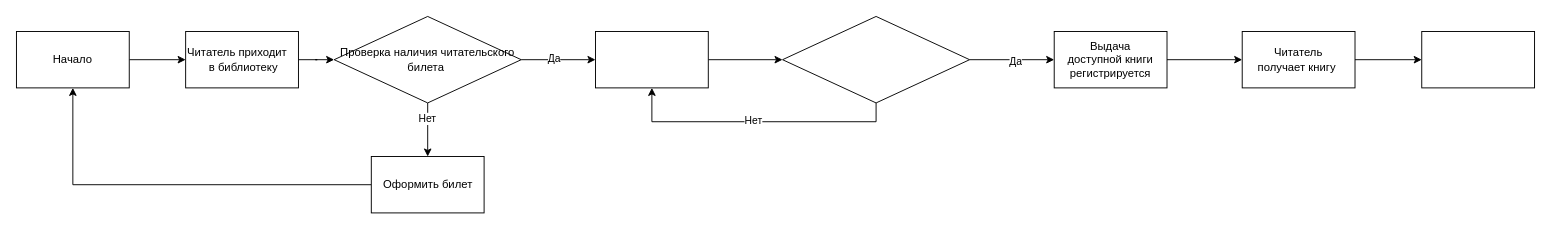
Image size: 1551x229. Some labels were removed from this diagram. Each missing label, with the box of its shape:
Конец: (1421, 31, 1535, 88)
Проверка доступности книги: (782, 16, 970, 103)
Читатель выбирает книгу в каталоге: (595, 31, 708, 88)
